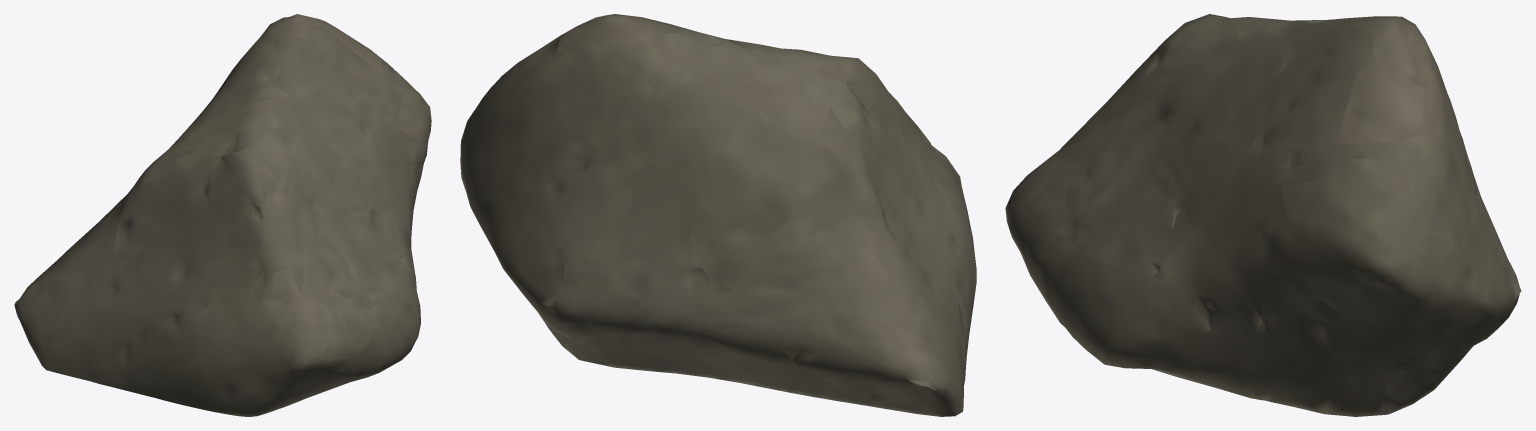
Rendered from corealm_ore_stone_spent.glb.
The picture shows the model from 3 angles, left to right: view 1: azimuth 30°, elevation 25°; view 2: azimuth 150°, elevation 25°; view 3: azimuth 270°, elevation 25°; orthographic projection. The views are drawn at different scales.
Parts seen in each view (by area): view 1: corealm_ore_stone_spent; view 2: corealm_ore_stone_spent; view 3: corealm_ore_stone_spent.
Part boxes in pixels (left/top/right/bottom): corealm_ore_stone_spent: left=14, top=14, right=431, bottom=416; corealm_ore_stone_spent: left=460, top=14, right=976, bottom=416; corealm_ore_stone_spent: left=1005, top=14, right=1521, bottom=416.
Size of the model in its own units: 2.6 by 1.7 by 2.2.
1 material, 1 textured.
